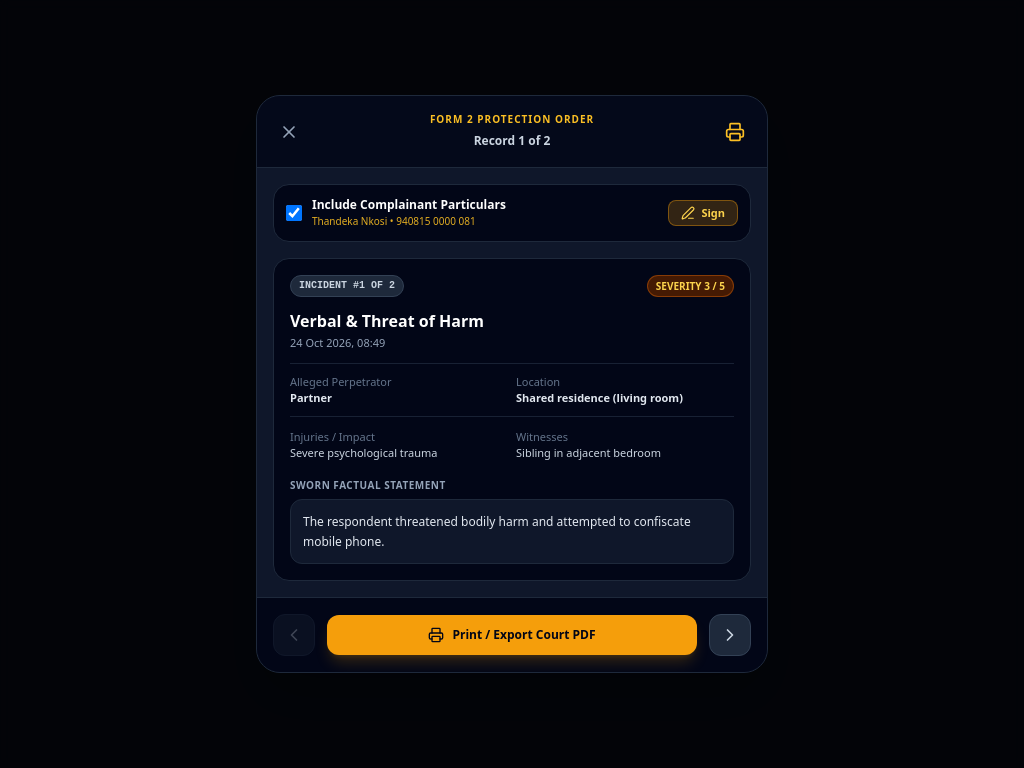
it: Form 2 Protection Order Court Record Viewer & Digital Signature › allows navigating between incident records using previous and next pagination buttons
The width and height of the screenshot is (1024, 768).
expect the text "Record 1 of 2" is shown: met, box [474,132,550,149]
expect the heading "Verbal & Threat of Harm" is shown: met, box [290,310,484,332]
# Click Next Incident
What coordinates should you click on to do the following:
click the button titled "Next Incident"
I would click on:
 (730, 635)
Its box is [709,614,751,656].
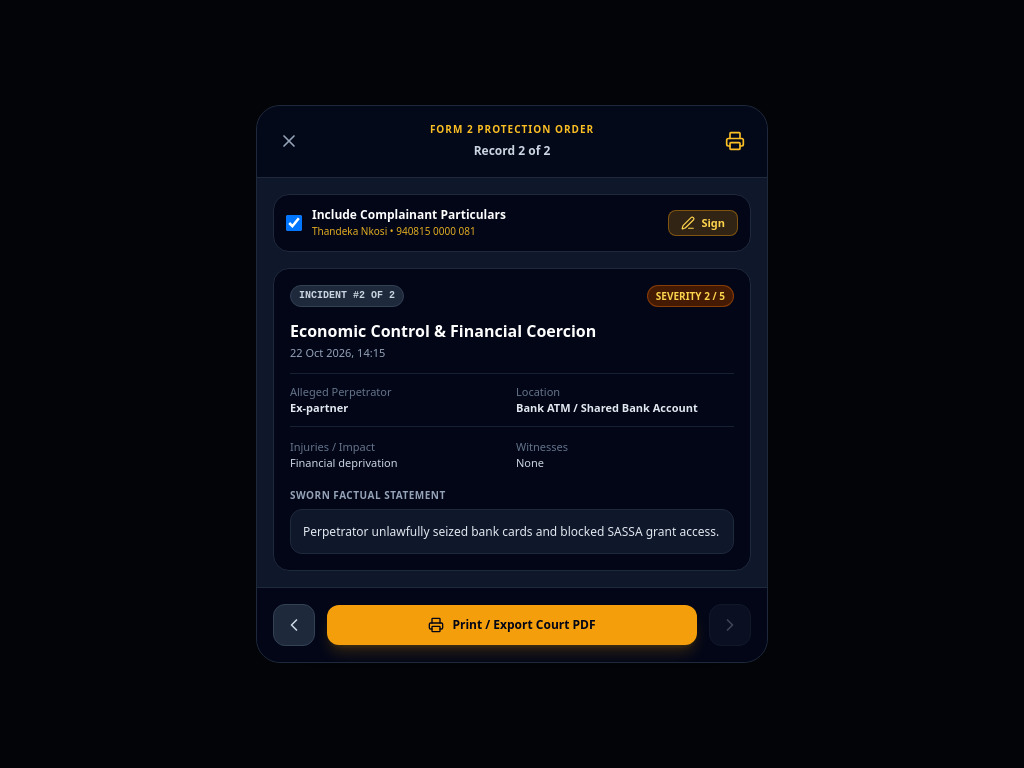
expect the text "Record 2 of 2" is shown: met, box [474,142,550,159]
expect the heading "Economic Control & Financial Coercion" is shown: met, box [290,320,596,342]
expect the text "Ex-partner" is shown: met, box [290,400,348,415]
# Click Previous Incident
What coordinates should you click on to do the following:
click the button titled "Previous Incident"
I would click on:
 (294, 625)
Its box is [273,604,315,646].
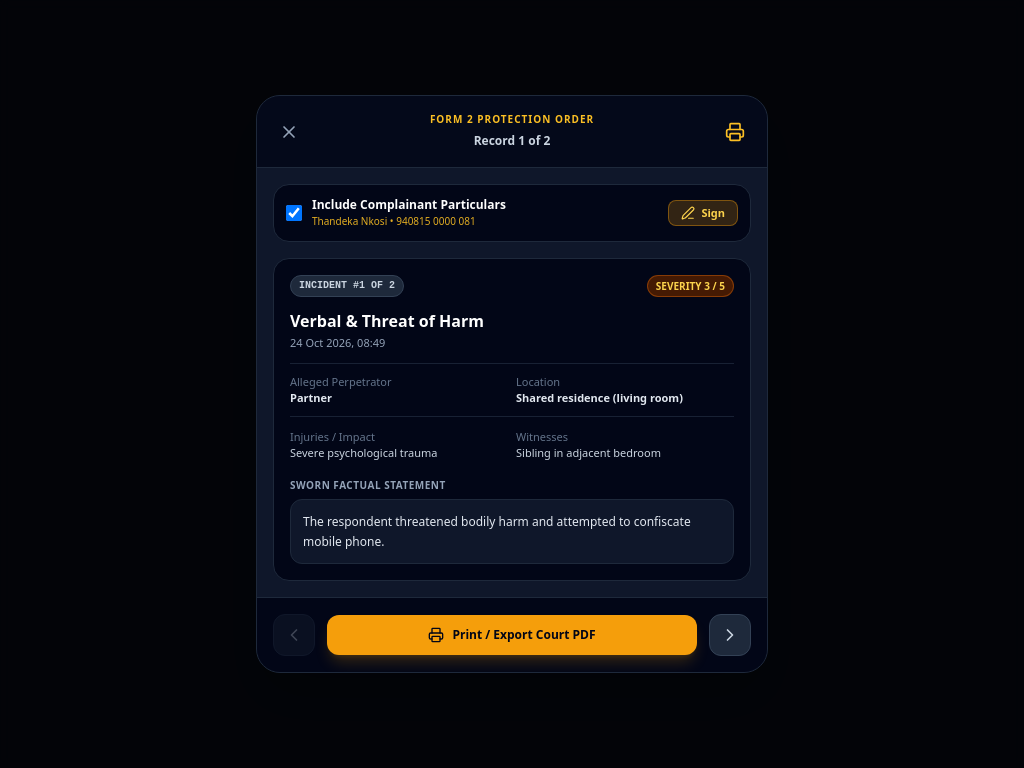
expect the text "Record 1 of 2" is shown: met, box [474,132,550,149]
expect the heading "Verbal & Threat of Harm" is shown: met, box [290,310,484,332]
